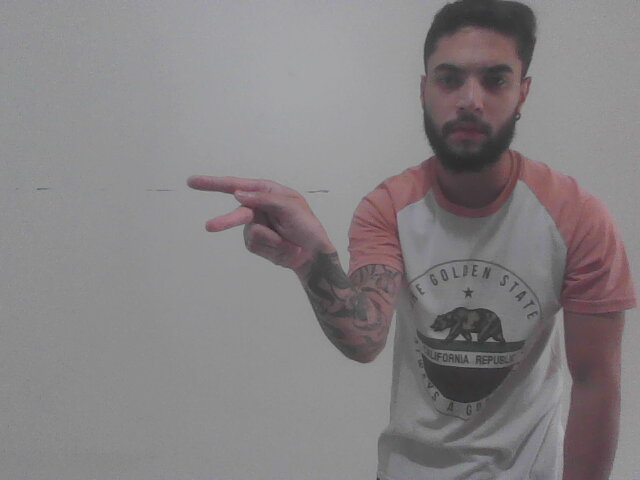p: (184, 166, 334, 284)
